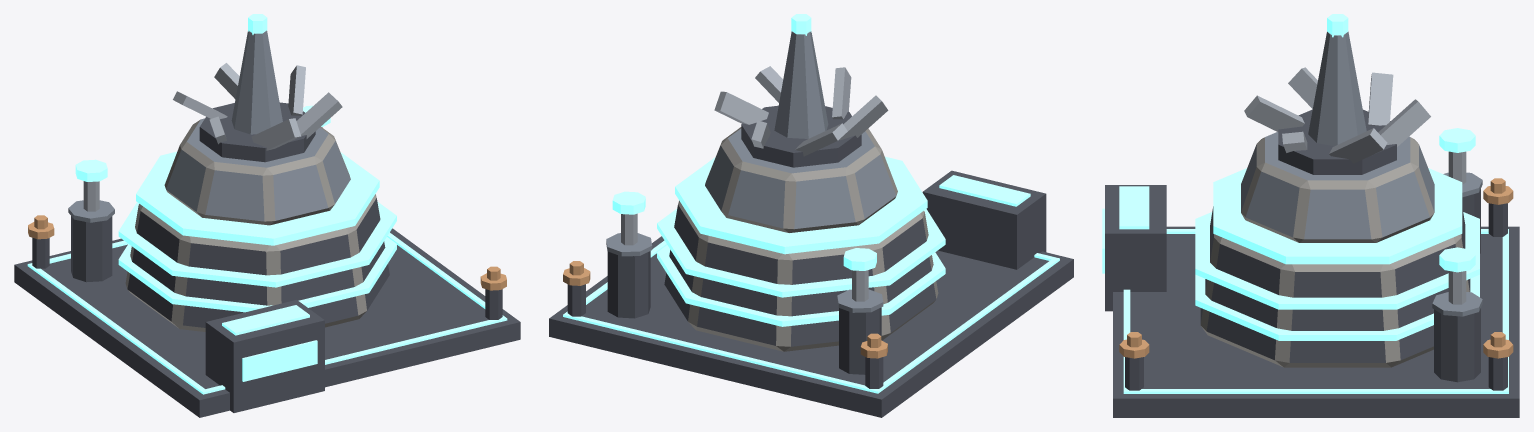
Rendered from broca_minerio_sem_textura.glb.
3 views of the same model, side by side, from view 1: azimuth 30°, elevation 25°; view 2: azimuth 150°, elevation 25°; view 3: azimuth 270°, elevation 25° (orthographic). The views are drawn at different scales.
Visible parts, largest first — view 1: broca_minerio_corpo, broca_minerio_rotor, broca_minerio_pistao0; view 2: broca_minerio_corpo, broca_minerio_rotor, broca_minerio_pistao1, broca_minerio_pistao0; view 3: broca_minerio_corpo, broca_minerio_rotor, broca_minerio_pistao1, broca_minerio_pistao0.
Boxes of the visible parts, x1,y1,x2,y2 form: broca_minerio_corpo: (14,118,520,417); broca_minerio_rotor: (173,14,342,162); broca_minerio_pistao0: (75,159,107,211); broca_minerio_corpo: (549,127,1073,417); broca_minerio_rotor: (714,14,888,167); broca_minerio_pistao1: (612,191,645,245); broca_minerio_pistao0: (843,248,876,301); broca_minerio_corpo: (1102,132,1519,417); broca_minerio_rotor: (1244,14,1430,174); broca_minerio_pistao1: (1439,247,1475,304); broca_minerio_pistao0: (1439,128,1475,184).
Bounding box in the file's own units: 1.9 × 1.62 × 1.95.
